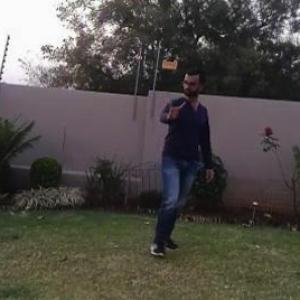takeoff-hand: (162, 93, 187, 123)
